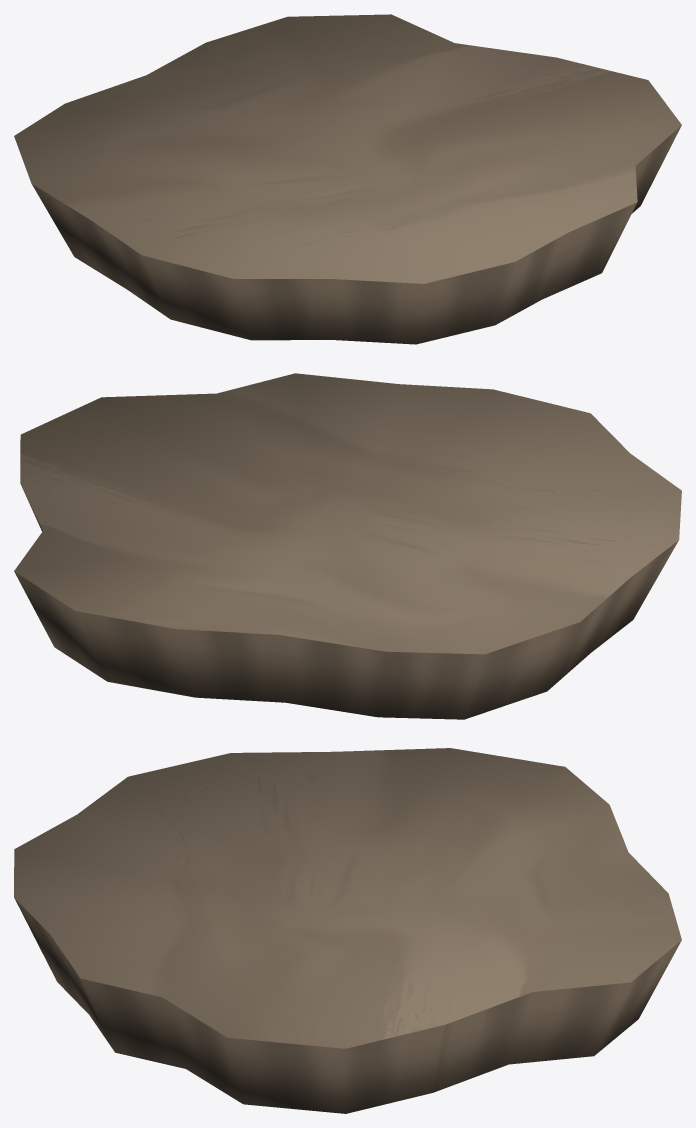
The model's file is slab_large.fbx.
The picture shows the model from 3 angles, top to bottom: view 1: azimuth 30°, elevation 25°; view 2: azimuth 150°, elevation 25°; view 3: azimuth 270°, elevation 25°; orthographic projection. The views are drawn at different scales.
Parts seen in each view (by area): view 1: slab_large; view 2: slab_large; view 3: slab_large.
Part boxes in pixels (x1,y1,x2,y2): slab_large: (14,14,681,344); slab_large: (14,373,681,719); slab_large: (14,748,681,1113).
Bounding box in the file's own units: 13.45 × 1.76 × 12.63.
Materials: 1 (1 with a texture image).
